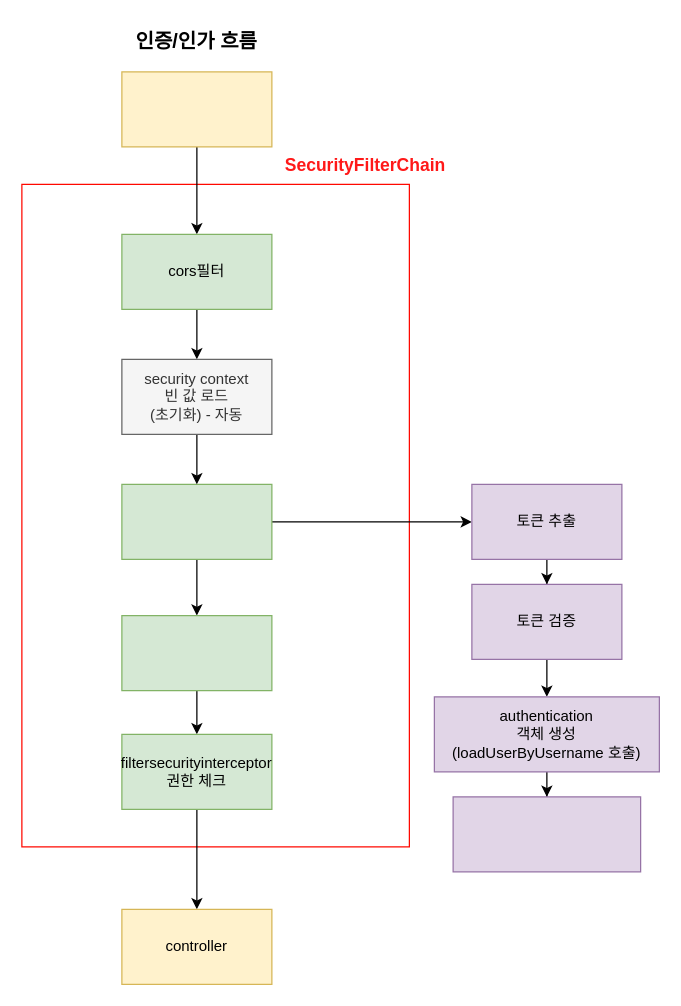
The diagram is 681 pixels wide and 1006 high, and some of its shapes have lost their labels. Here are the shapes that lost their labels. From the top down, the centre of each, then its label:
point (196, 109): POST /api/auth/login
point (196, 521): Jwt 필터
point (196, 652): exceptiontranslation jwt필터에서 403처리 된 것? 예외처리
point (546, 834): security context holder 저장
